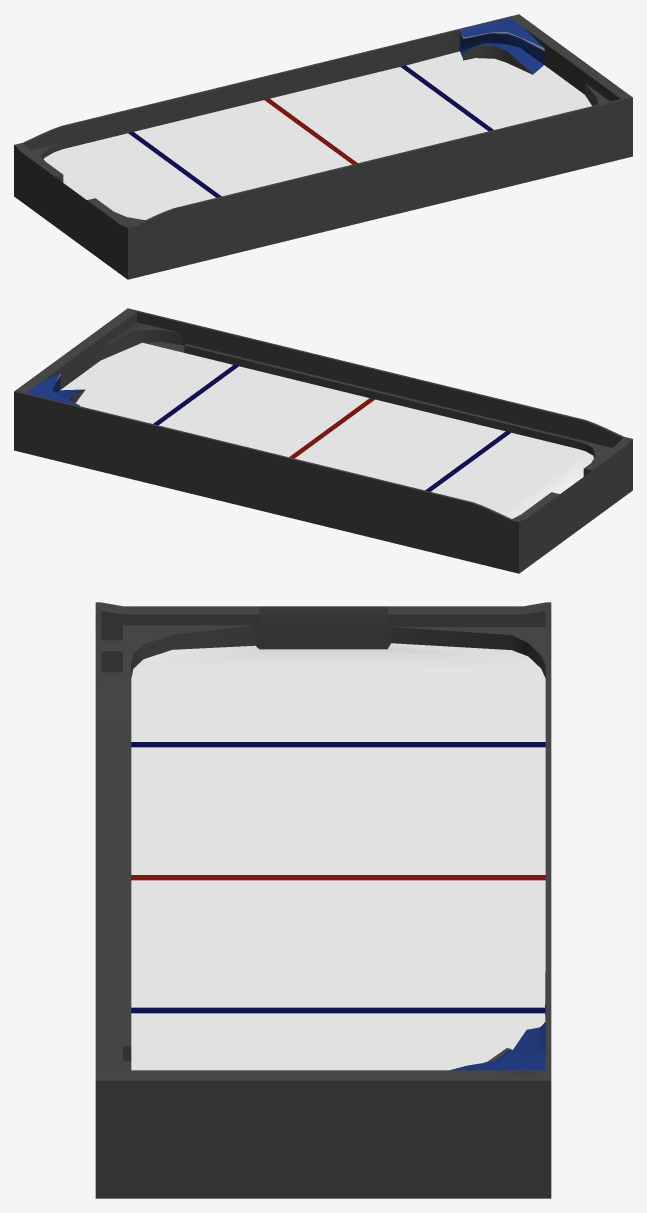
File: Pinball2.fbx
3 renders of one model, top to bottom at view 1: azimuth 30°, elevation 25°; view 2: azimuth 150°, elevation 25°; view 3: azimuth 270°, elevation 25°, orthographic. The views are drawn at different scales.
Parts seen in each view (by area): view 1: Pinball; view 2: Pinball; view 3: Pinball.
Boxes of the visible parts, x1=… form: Pinball: x1=14, y1=14, x2=632, y2=279; Pinball: x1=14, y1=308, x2=632, y2=573; Pinball: x1=95, y1=602, x2=551, y2=1198.
Size of the model in its own units: 179 by 70 by 20.
